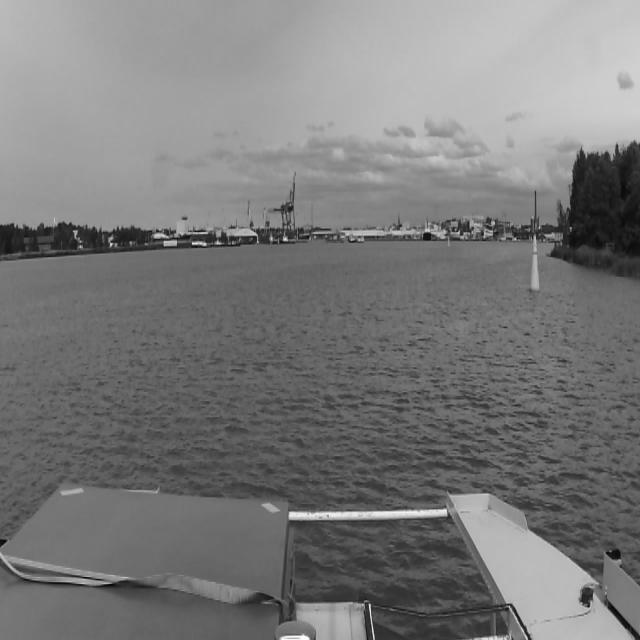buoy: (530, 234, 540, 290), (448, 236, 450, 246)
ship: (423, 217, 431, 241)
